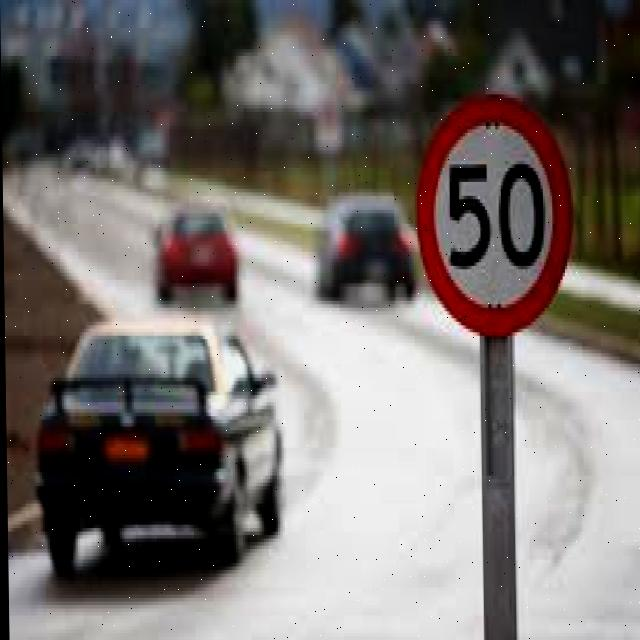Speed limit 50: (412, 89, 577, 341)
